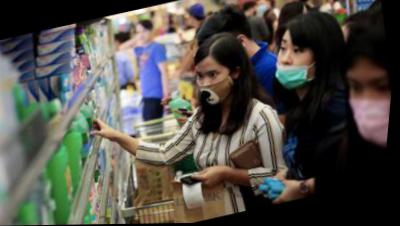NONE: (134, 26, 154, 46)
OK: (339, 62, 395, 154)
WRONG: (269, 31, 325, 93), (192, 60, 241, 109)
